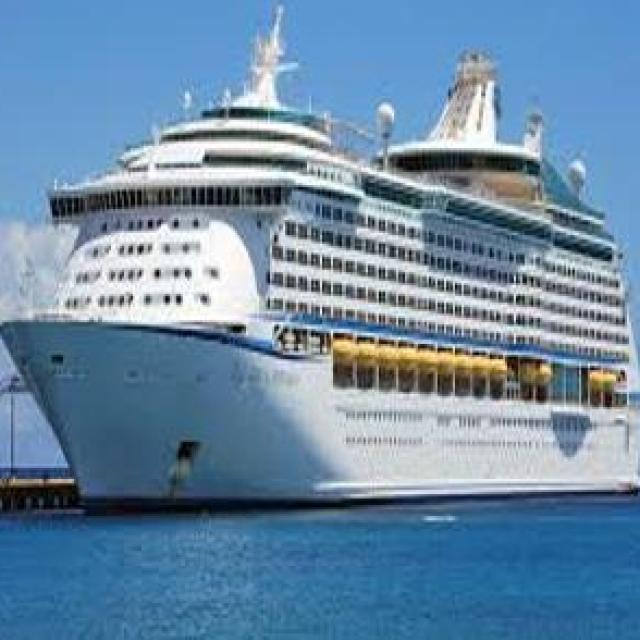passenger ship: (1, 29, 640, 514)
